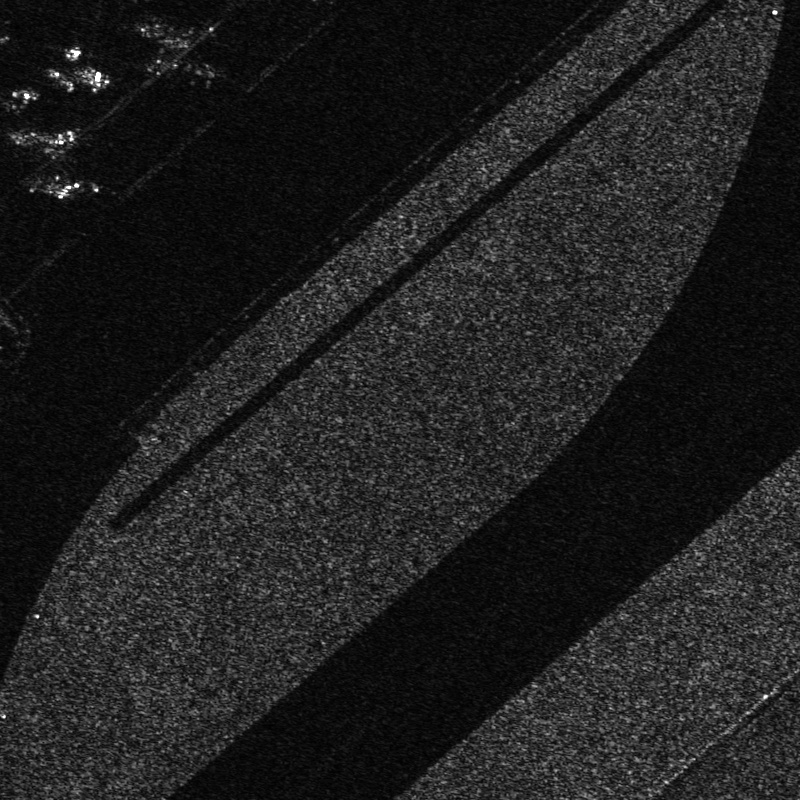Boeing737: (135, 14, 243, 102)
